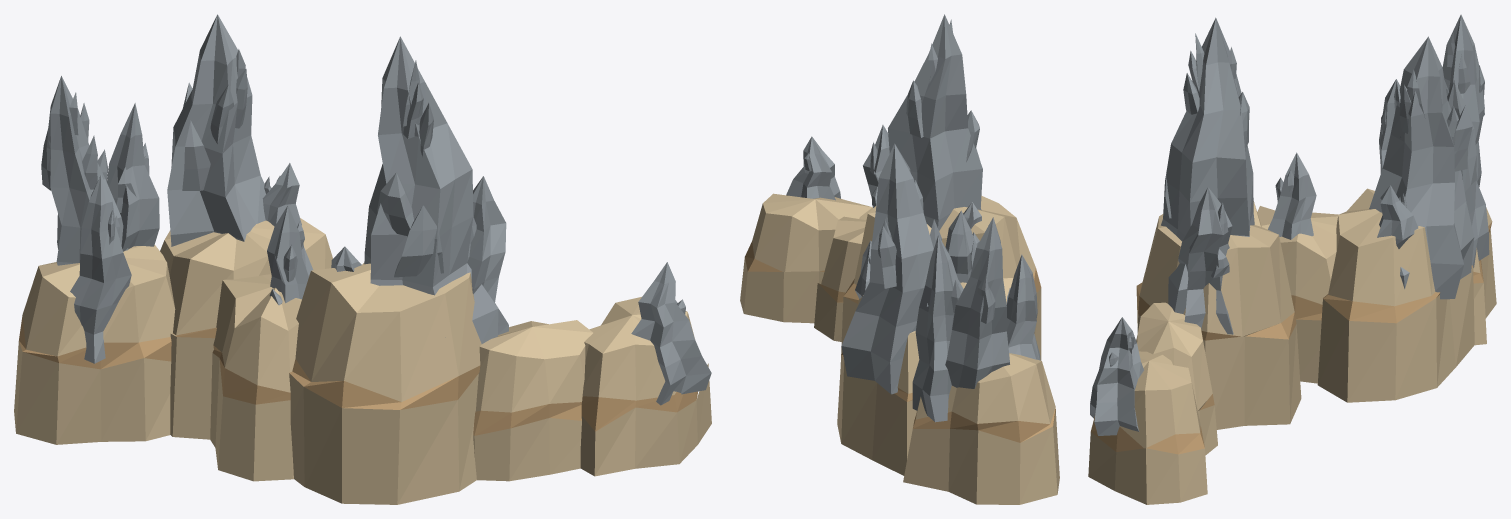
File: wdw-batuu-spires.glb
3 views of the same model, side by side, from view 1: azimuth 30°, elevation 25°; view 2: azimuth 150°, elevation 25°; view 3: azimuth 270°, elevation 25° (orthographic). The views are drawn at different scales.
Parts seen in each view (by area): view 1: Black Spire Outpost spires; view 2: Black Spire Outpost spires; view 3: Black Spire Outpost spires.
Boxes of the visible parts, x1,y1,x2,y2 form: Black Spire Outpost spires: [14, 14, 711, 504]; Black Spire Outpost spires: [740, 14, 1059, 504]; Black Spire Outpost spires: [1088, 14, 1496, 504].
Size of the model in its own units: 53.75 by 41 by 40.83.
